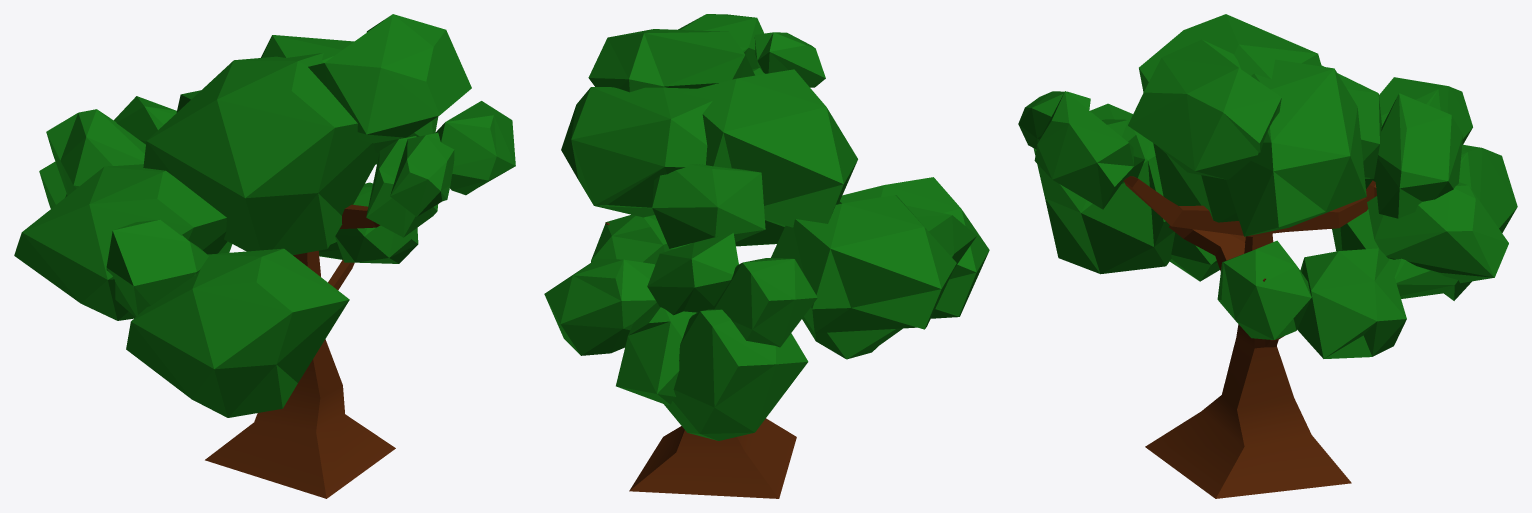
The model's file is tree4.fbx.
3 renders of one model, left to right at view 1: azimuth 30°, elevation 25°; view 2: azimuth 150°, elevation 25°; view 3: azimuth 270°, elevation 25°, orthographic. The views are drawn at different scales.
Visible parts, largest first — view 1: GeoSphere049, GeoSphere063, GeoSphere064, Tree004, GeoSphere054, GeoSphere065, GeoSphere058, GeoSphere055, GeoSphere056, GeoSphere057, GeoSphere050, GeoSphere052 (+2 smaller); view 2: GeoSphere064, GeoSphere049, GeoSphere052, GeoSphere061, Tree004, GeoSphere054, GeoSphere053, GeoSphere051, GeoSphere058, GeoSphere060, GeoSphere059, GeoSphere063 (+5 smaller); view 3: Tree004, GeoSphere052, GeoSphere054, GeoSphere063, GeoSphere051, GeoSphere059, GeoSphere060, GeoSphere049, GeoSphere055, GeoSphere050, GeoSphere061, GeoSphere058 (+4 smaller).
Boxes of the visible parts, x1,y1,x2,y2 form: GeoSphere049: [143, 53, 379, 255]; GeoSphere063: [126, 248, 349, 417]; GeoSphere064: [14, 164, 227, 320]; Tree004: [205, 204, 395, 498]; GeoSphere054: [308, 14, 471, 152]; GeoSphere065: [106, 219, 208, 317]; GeoSphere058: [46, 109, 145, 195]; GeoSphere055: [435, 101, 515, 195]; GeoSphere056: [390, 132, 454, 216]; GeoSphere057: [366, 136, 438, 237]; GeoSphere050: [335, 182, 418, 263]; GeoSphere052: [261, 35, 438, 164]; GeoSphere064: [771, 195, 956, 333]; GeoSphere049: [680, 69, 857, 246]; GeoSphere052: [561, 87, 712, 217]; GeoSphere061: [664, 309, 808, 440]; Tree004: [605, 222, 796, 498]; GeoSphere054: [588, 29, 754, 92]; GeoSphere053: [650, 164, 765, 248]; GeoSphere051: [544, 258, 656, 355]; GeoSphere058: [712, 258, 817, 347]; GeoSphere060: [647, 233, 738, 315]; GeoSphere059: [616, 302, 696, 405]; GeoSphere063: [838, 177, 989, 318]; Tree004: [1123, 176, 1376, 498]; GeoSphere052: [1226, 59, 1366, 236]; GeoSphere054: [1128, 39, 1281, 179]; GeoSphere063: [1033, 103, 1175, 274]; GeoSphere051: [1297, 248, 1406, 358]; GeoSphere059: [1367, 182, 1508, 283]; GeoSphere060: [1375, 93, 1463, 218]; GeoSphere049: [1139, 14, 1321, 222]; GeoSphere055: [1034, 91, 1133, 209]; GeoSphere050: [1217, 240, 1311, 339]; GeoSphere061: [1332, 144, 1517, 300]; GeoSphere058: [1365, 77, 1472, 188].
Bounding box in the file's own units: 2848 × 2842 × 2957.
